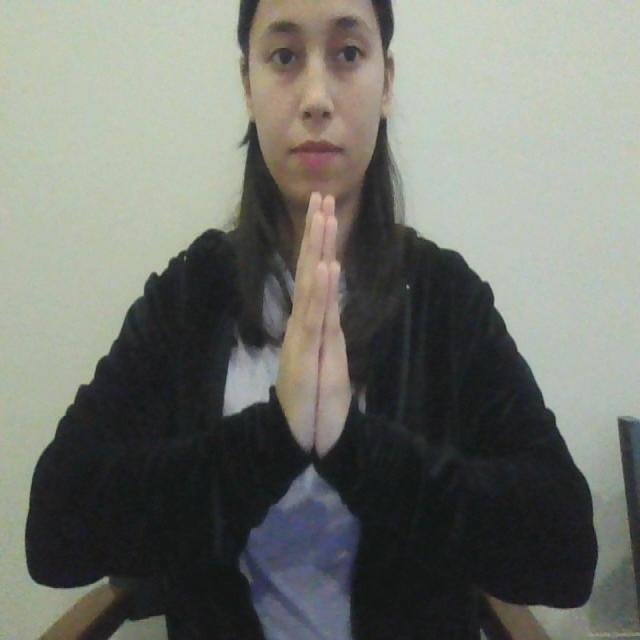Ozur-Dilemek: (276, 181, 360, 483)
